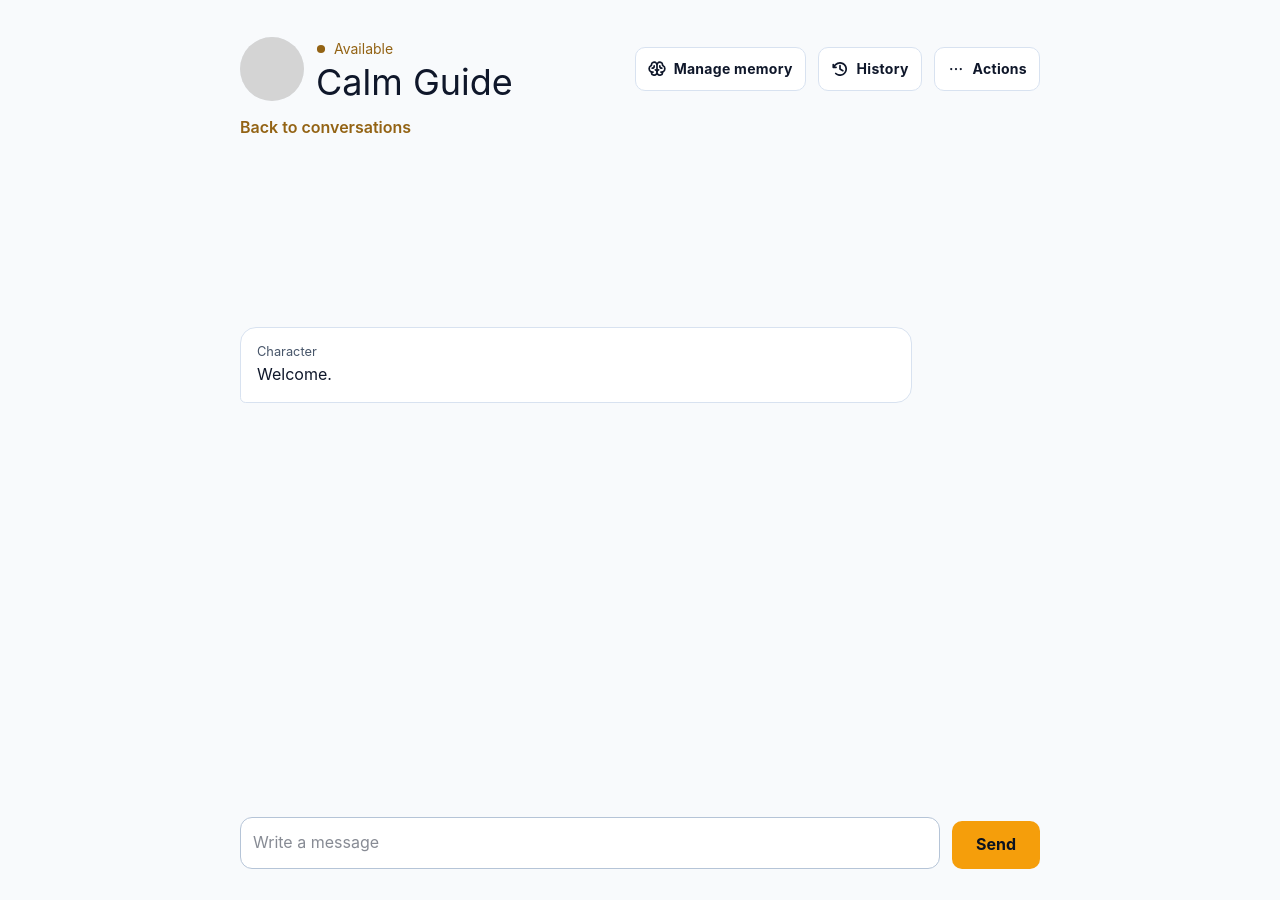
Test: history drawer opens accessibly, closes on Escape, and restores focus
Click the button with aria-label "Open conversation history" at x=870, y=70, box [818, 48, 922, 92]
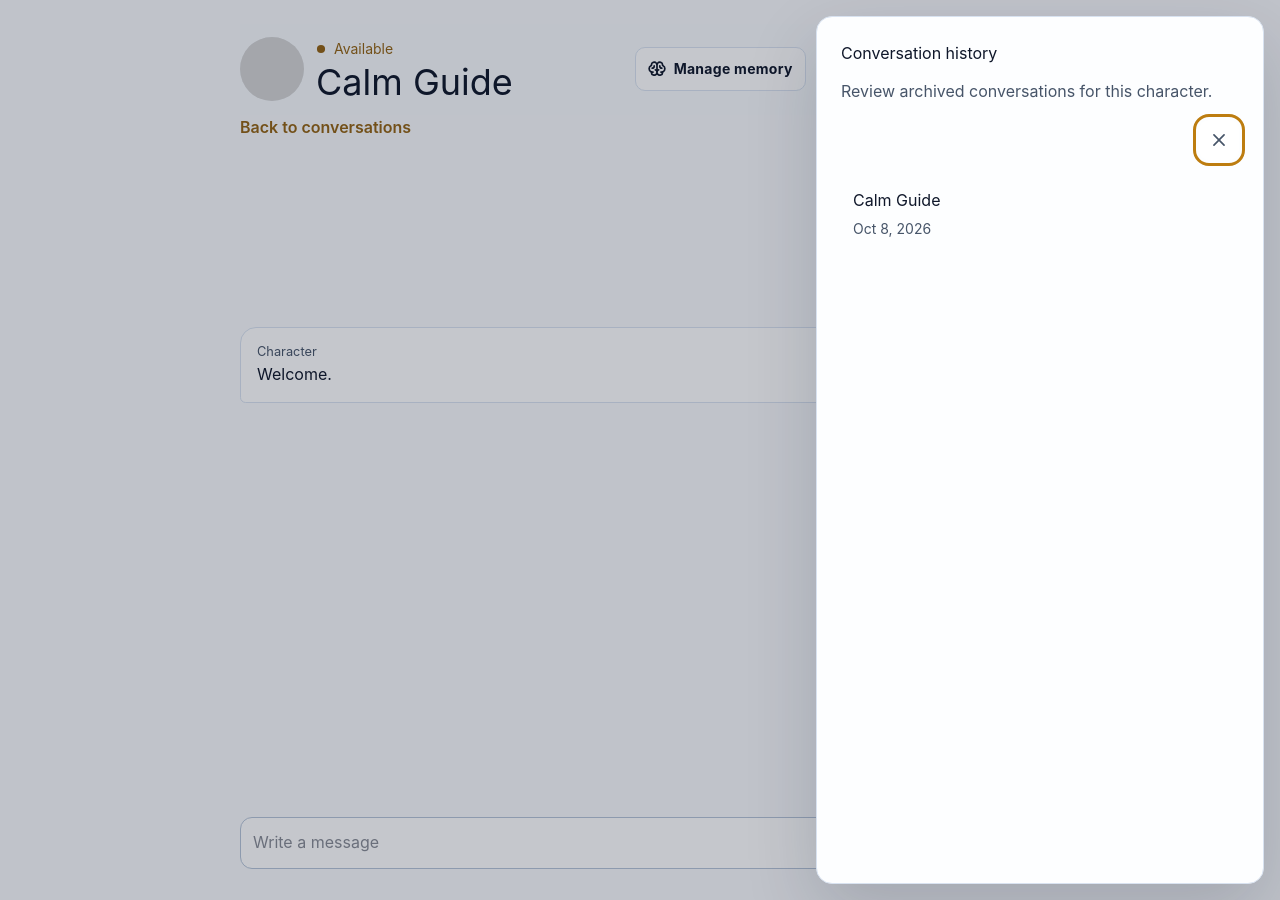
Result: the dialog "Conversation history" is shown at [816, 16, 1264, 884]
Press Escape
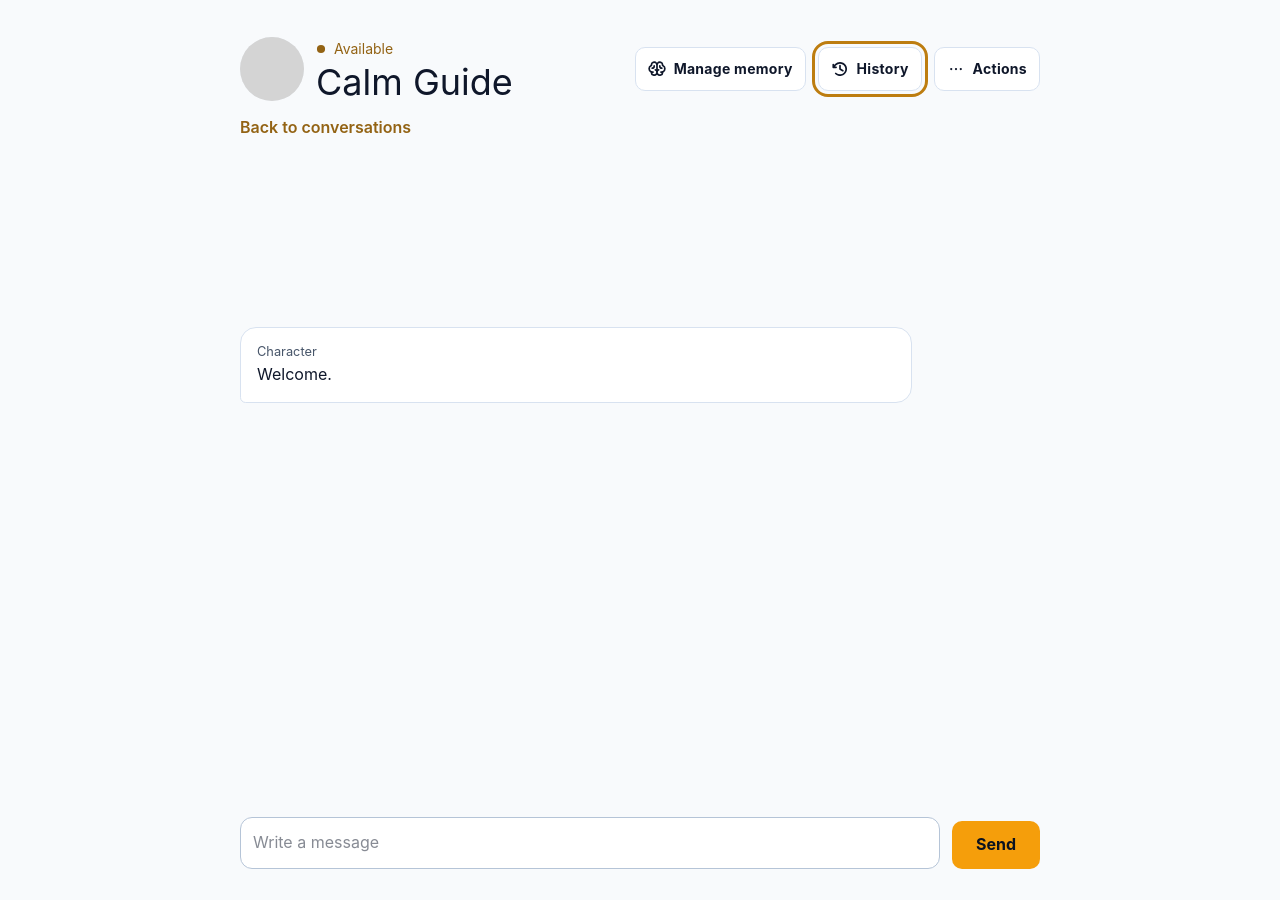
Result: the heading "Conversation history" is gone
